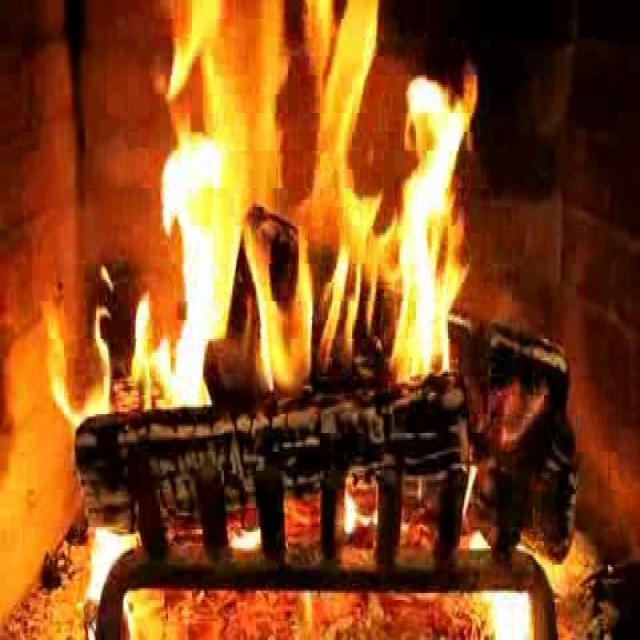fire: (124, 1, 478, 426)
